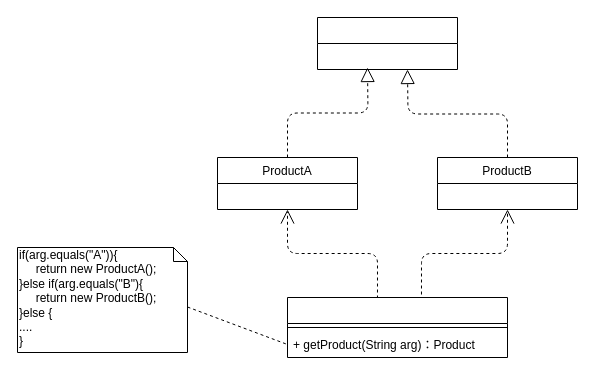
Some shapes in this 595 by 378 pixel diagram are drawn without their labels. The box of each missing label's shape, as (x1, y1, x2, y2) in pixels:
Product: (316, 16, 458, 70)
ProductFactory: (286, 296, 508, 358)
